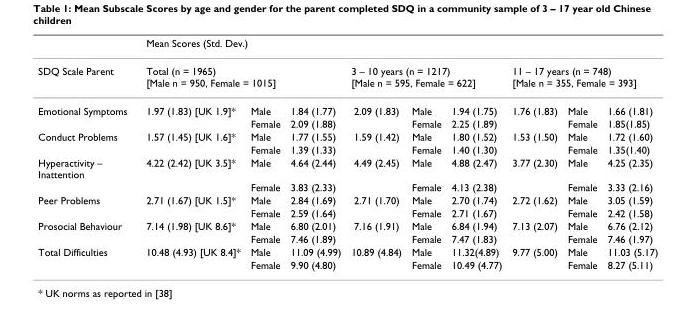table: (37, 36, 657, 270)
table column: (135, 36, 244, 270), (37, 36, 135, 270), (284, 36, 345, 270), (445, 36, 506, 270), (345, 36, 405, 270), (601, 36, 657, 270), (506, 36, 561, 270), (244, 36, 284, 270), (405, 36, 445, 270), (561, 36, 601, 270)
table column header: (37, 36, 657, 116)
table row: (37, 56, 657, 96), (37, 155, 657, 180), (37, 36, 657, 56), (37, 96, 657, 116), (37, 116, 657, 129), (37, 129, 657, 142), (37, 142, 657, 155), (37, 180, 657, 193), (37, 193, 657, 206), (37, 206, 657, 219), (37, 219, 657, 232), (37, 232, 657, 245), (37, 245, 657, 258), (37, 258, 657, 270)
table spanning cell: (135, 36, 657, 56), (135, 56, 345, 96), (37, 36, 135, 116), (345, 56, 506, 96), (506, 56, 657, 96), (37, 155, 135, 193), (37, 129, 135, 155), (37, 193, 135, 219), (37, 219, 135, 245), (37, 245, 135, 270)
